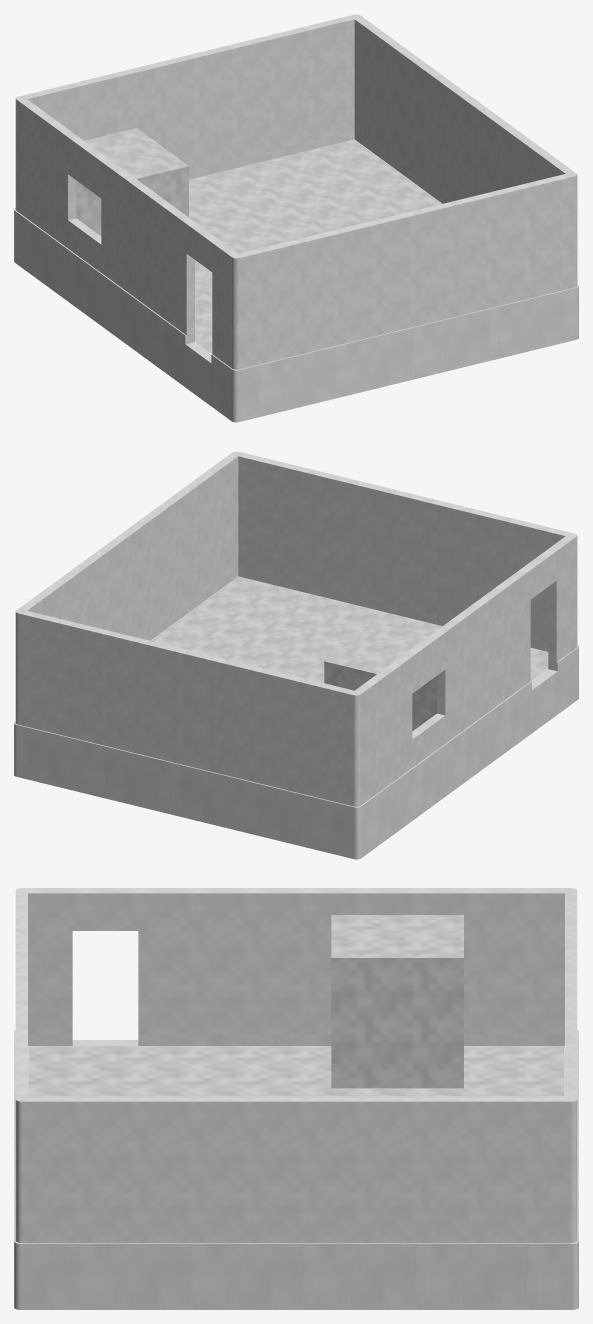
File: SM_Homes_H01_Shell.glb
3 views of the same model, one above another, from view 1: azimuth 30°, elevation 25°; view 2: azimuth 150°, elevation 25°; view 3: azimuth 270°, elevation 25° (orthographic). The views are drawn at different scales.
Visible parts, largest first — view 1: SM_Homes_H01_Shell; view 2: SM_Homes_H01_Shell; view 3: SM_Homes_H01_Shell.
Part boxes in pixels (x1,y1,x2,y2): SM_Homes_H01_Shell: [14, 14, 578, 422]; SM_Homes_H01_Shell: [14, 451, 578, 859]; SM_Homes_H01_Shell: [14, 888, 578, 1309].
Size of the model in its own units: 9.06 by 4.08 by 10.06.
Materials: 3 (3 with a texture image).
